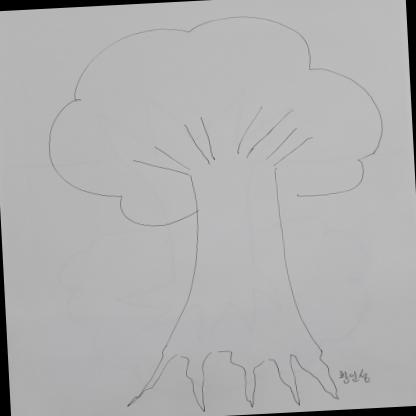branch_line: (118, 99, 318, 183)
crown_cloud: (34, 6, 393, 231)
root_only: (119, 320, 344, 416)
trunk_straight: (164, 218, 312, 328)
